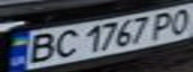1: (78, 23, 103, 53)
6: (115, 16, 139, 47)
7: (130, 12, 157, 44), (96, 19, 121, 51)
B: (18, 29, 63, 64)
C: (48, 27, 81, 60)
O: (163, 6, 193, 35)
P: (145, 9, 181, 39)
